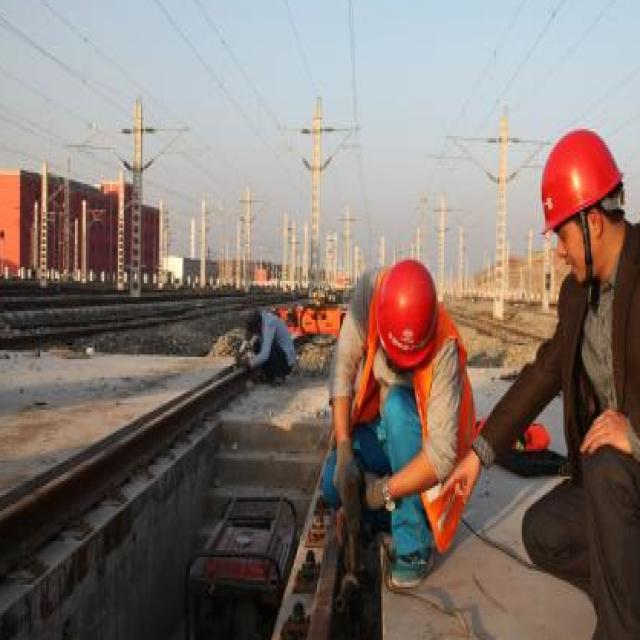helmet: (530, 122, 628, 288), (364, 254, 444, 394)
